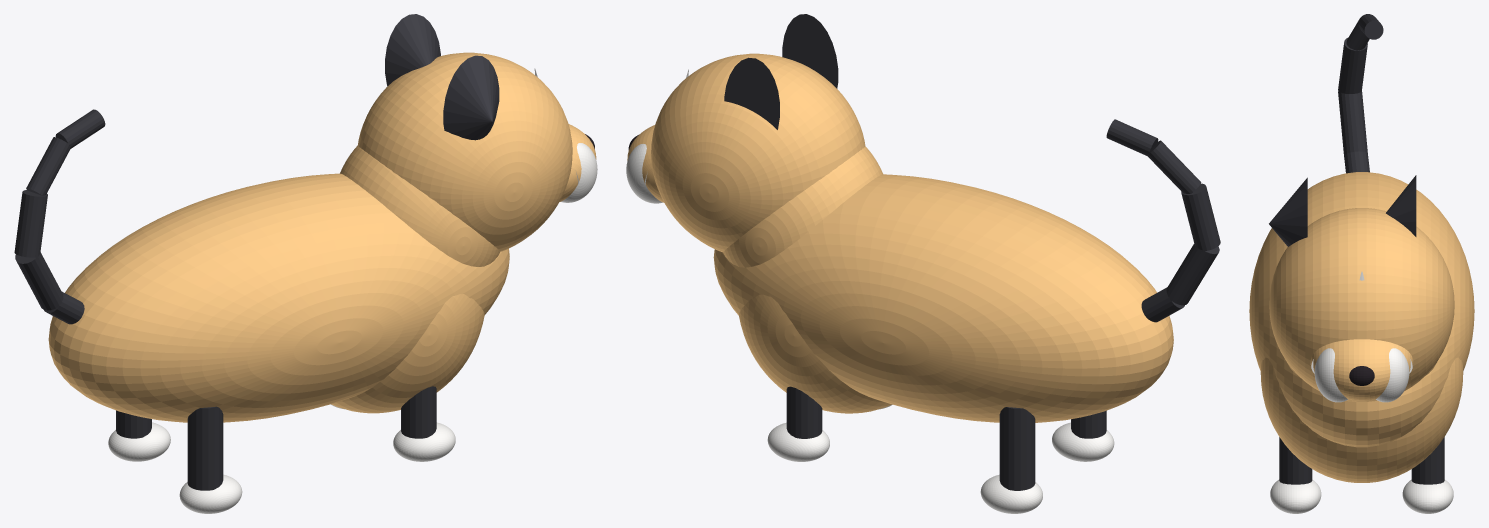
File: beau.glb
3 views of the same model, side by side, from view 1: azimuth 30°, elevation 25°; view 2: azimuth 150°, elevation 25°; view 3: azimuth 270°, elevation 25° (orthographic). The views are drawn at different scales.
Visible parts, largest first — view 1: Rim_Body, Rim_Head, Rim_Chest, Rim_Neck, Ear_L, Leg_BL, Ear_R, Tail_2, Leg_FL, Paw_FL, Paw_BL, Paw_BR (+7 smaller); view 2: Rim_Body, Rim_Head, Rim_Chest, Rim_Neck, Leg_BR, Ear_L, Ear_R, Tail_2, Tail_1, Leg_FR, Paw_BL, Paw_FR (+7 smaller); view 3: Rim_Head, Rim_Body, Rim_Chest, Rim_Muzzle, Ear_L, Tail_1, Paw_FR, Paw_FL, Tail_2, White_Muzzle_R, White_Muzzle_L, Ear_R (+6 smaller).
Boxes of the visible parts, left/top/right/bottom form: Rim_Body: left=48, top=173, right=509, bottom=422; Rim_Head: left=358, top=52, right=572, bottom=251; Rim_Chest: left=331, top=294, right=484, bottom=413; Rim_Neck: left=340, top=145, right=500, bottom=266; Ear_L: left=443, top=55, right=499, bottom=140; Leg_BL: left=187, top=406, right=223, bottom=490; Ear_R: left=385, top=14, right=440, bottom=86; Tail_2: left=14, top=190, right=47, bottom=257; Leg_FL: left=401, top=386, right=436, bottom=438; Paw_FL: left=393, top=422, right=455, bottom=461; Paw_BL: left=179, top=474, right=242, bottom=513; Paw_BR: left=108, top=422, right=170, bottom=461; Rim_Body: left=713, top=174, right=1173, bottom=422; Rim_Head: left=651, top=53, right=865, bottom=252; Rim_Chest: left=738, top=294, right=891, bottom=413; Rim_Neck: left=723, top=146, right=882, bottom=267; Leg_BR: left=999, top=407, right=1035, bottom=490; Ear_L: left=782, top=14, right=838, bottom=88; Ear_R: left=724, top=57, right=779, bottom=129; Tail_2: left=1181, top=183, right=1220, bottom=251; Tail_1: left=1166, top=244, right=1219, bottom=305; Leg_FR: left=786, top=386, right=822, bottom=438; Paw_BL: left=1052, top=422, right=1114, bottom=461; Paw_FR: left=767, top=422, right=829, bottom=461; Rim_Head: left=1269, top=208, right=1454, bottom=401; Rim_Body: left=1249, top=172, right=1474, bottom=447; Rim_Chest: left=1260, top=357, right=1463, bottom=482; Rim_Muzzle: left=1310, top=339, right=1413, bottom=400; Ear_L: left=1269, top=177, right=1307, bottom=246; Tail_1: left=1338, top=91, right=1367, bottom=155; Paw_FR: left=1402, top=479, right=1453, bottom=513; Paw_FL: left=1270, top=479, right=1321, bottom=513; Tail_2: left=1338, top=38, right=1367, bottom=93; White_Muzzle_R: left=1376, top=348, right=1409, bottom=402; White_Muzzle_L: left=1314, top=348, right=1347, bottom=402; Ear_R: left=1386, top=175, right=1416, bottom=236.
Bounding box in the file's own units: 2.07 × 1.32 × 0.748.
